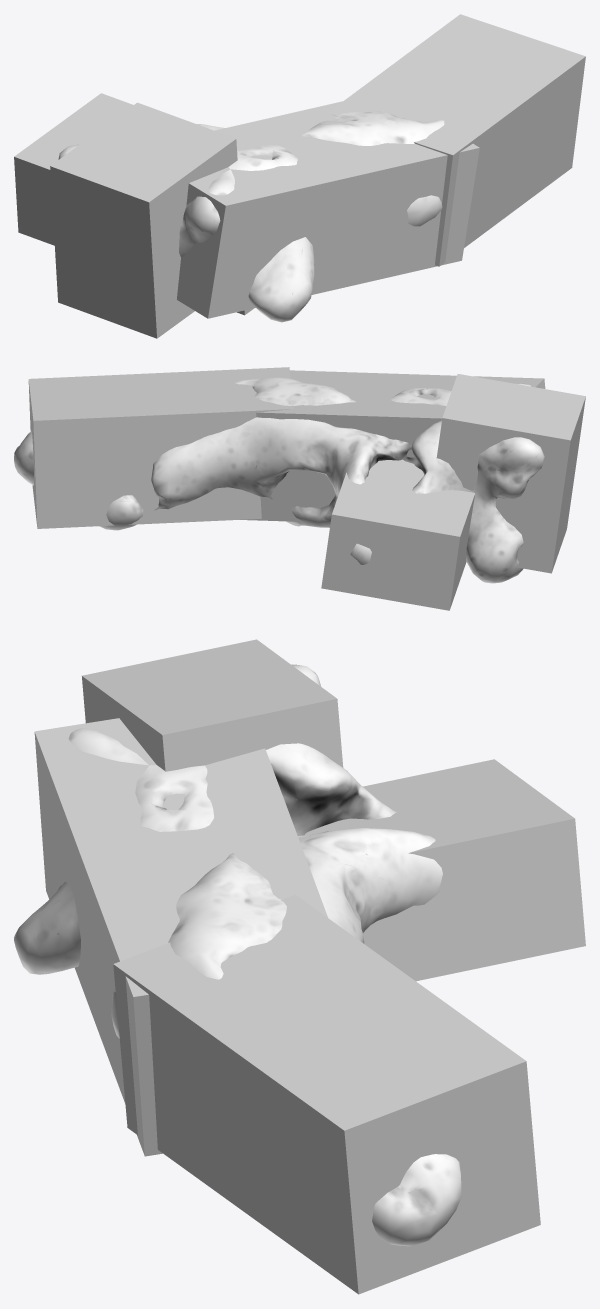
The model's file is Coral_9.glb.
3 views of the same model, one above another, from view 1: azimuth 30°, elevation 25°; view 2: azimuth 150°, elevation 25°; view 3: azimuth 270°, elevation 25° (orthographic). The views are drawn at different scales.
Visible parts, largest first — view 1: Cube.023, Cube.024, Cube.026, A03612_Koralle9.001, Cube.025; view 2: A03612_Koralle9.001, Cube.024, Cube.025, Cube.026, Cube.023; view 3: Cube.024, Cube.023, A03612_Koralle9.001, Cube.025, Cube.026.
Part boxes in pixels (bbox=[...]): Cube.023: bbox=[177, 101, 479, 318]; Cube.024: bbox=[327, 14, 585, 266]; Cube.026: bbox=[50, 102, 237, 338]; A03612_Koralle9.001: bbox=[58, 111, 444, 322]; Cube.025: bbox=[14, 93, 253, 315]; A03612_Koralle9.001: bbox=[14, 377, 544, 583]; Cube.024: bbox=[28, 367, 294, 528]; Cube.025: bbox=[321, 459, 475, 610]; Cube.026: bbox=[436, 374, 585, 573]; Cube.023: bbox=[240, 370, 545, 521]; Cube.024: bbox=[113, 894, 540, 1294]; Cube.023: bbox=[34, 718, 327, 1156]; A03612_Koralle9.001: bbox=[14, 664, 461, 1246]; Cube.025: bbox=[304, 759, 585, 981]; Cube.026: bbox=[82, 639, 343, 771].
Size of the model in its own units: 0.7294 by 0.2215 by 0.423.
1 material, 1 textured.
